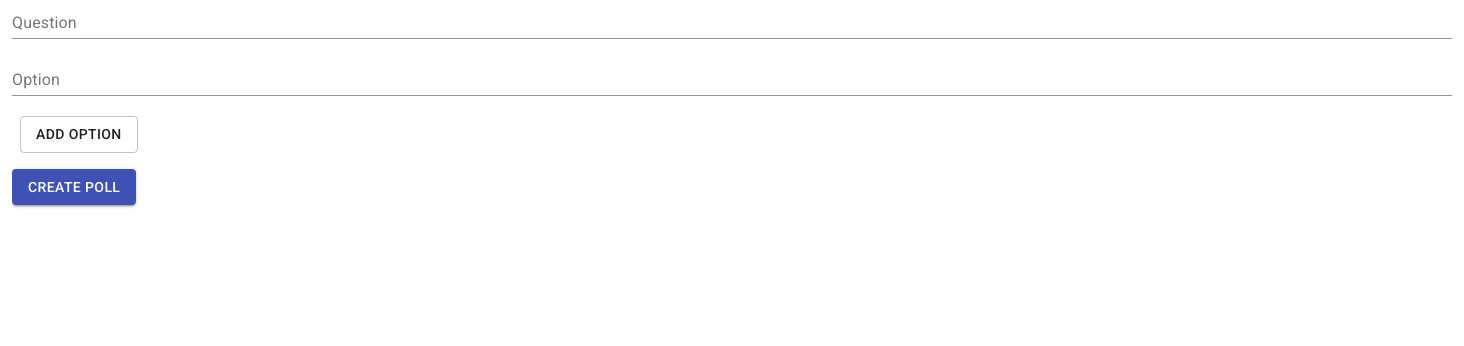
Component PollCreator › adding › add option, render options and option
Type "option 1" into the field labelled "Option" at (732, 82), box top-left (12, 67), bottom-right (1452, 96)
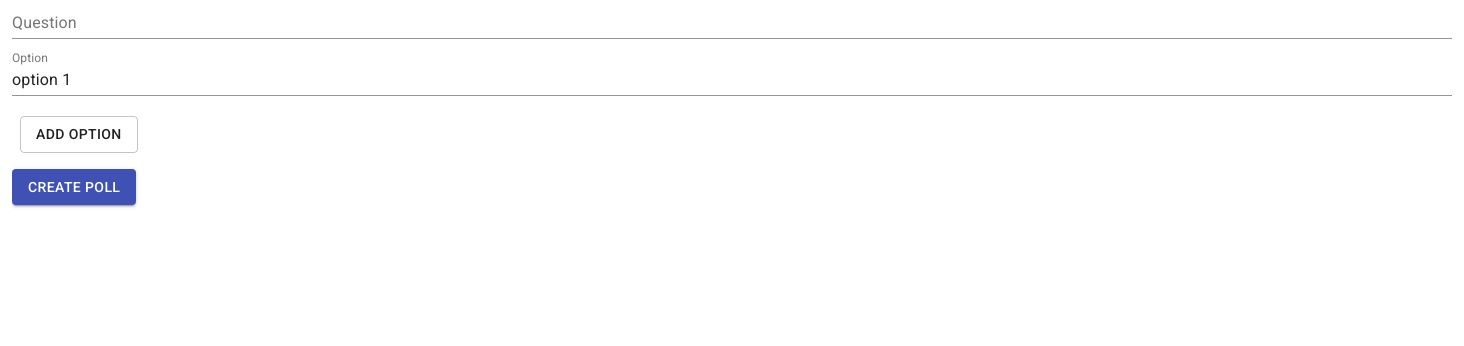
Click the button "Add option" at (79, 134), box top-left (20, 116), bottom-right (138, 152)
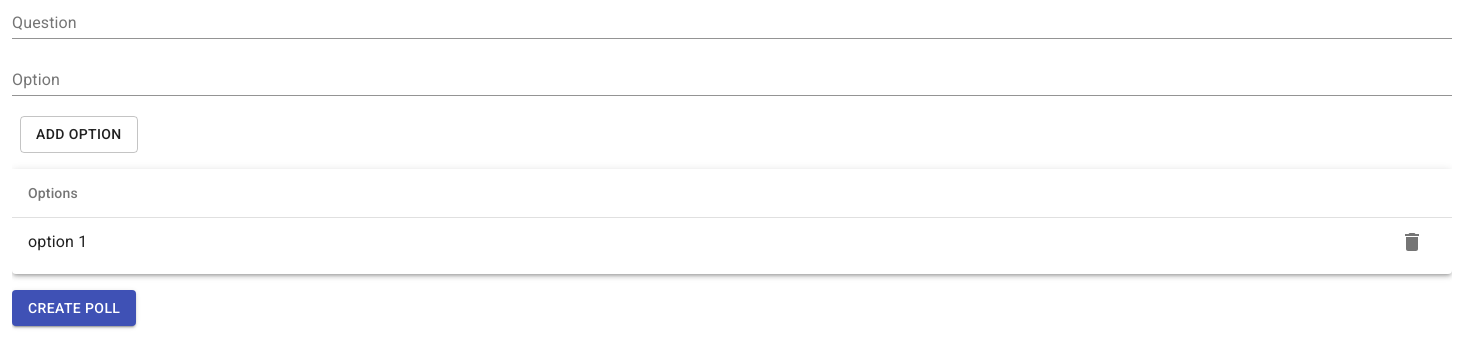
Now the list item "Options" is shown, box top-left (12, 168), bottom-right (1452, 216)
Now the text "option 1" is shown, box top-left (28, 230), bottom-right (87, 254)
